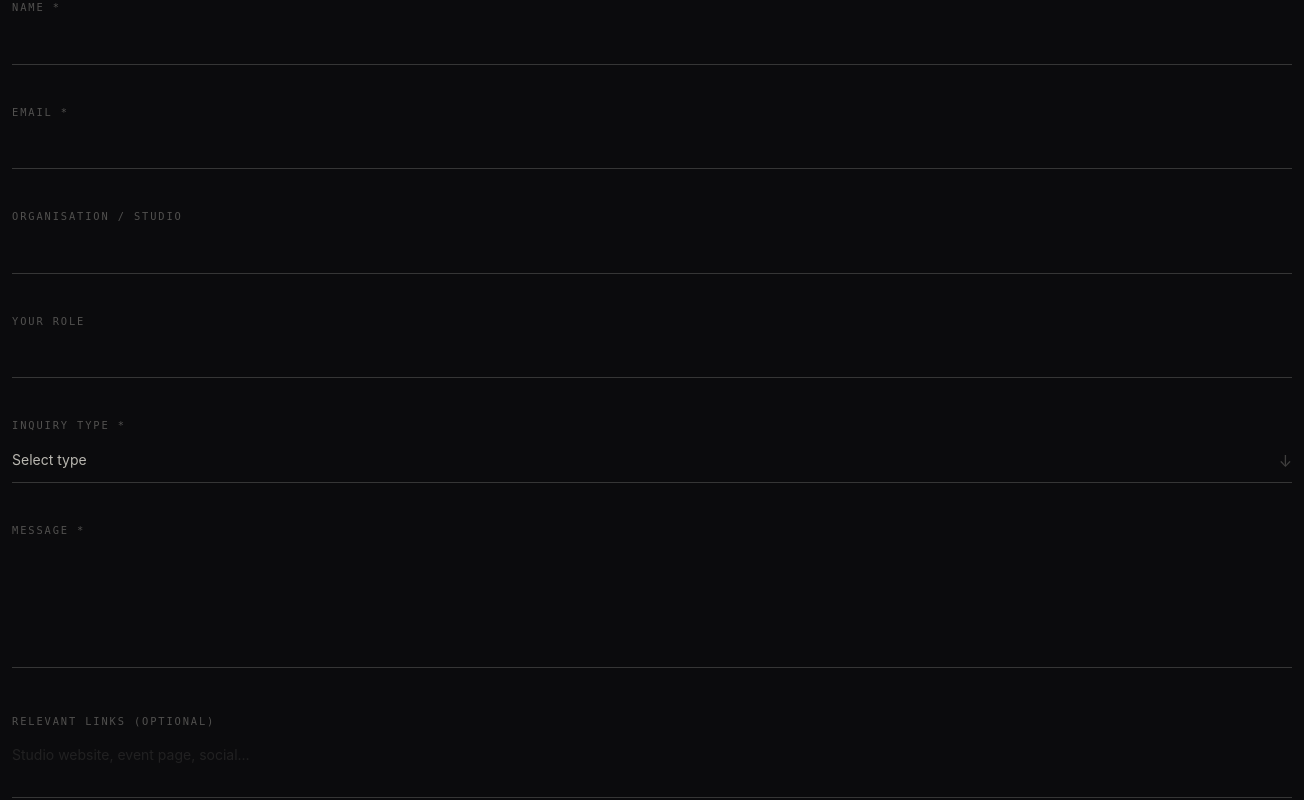
Test: ProfessionalForm › shows error message on failed submission
Type "Studio X" into the field labelled "Name *".
click(652, 42); type("Studio X")  # box [12,20,1292,65]
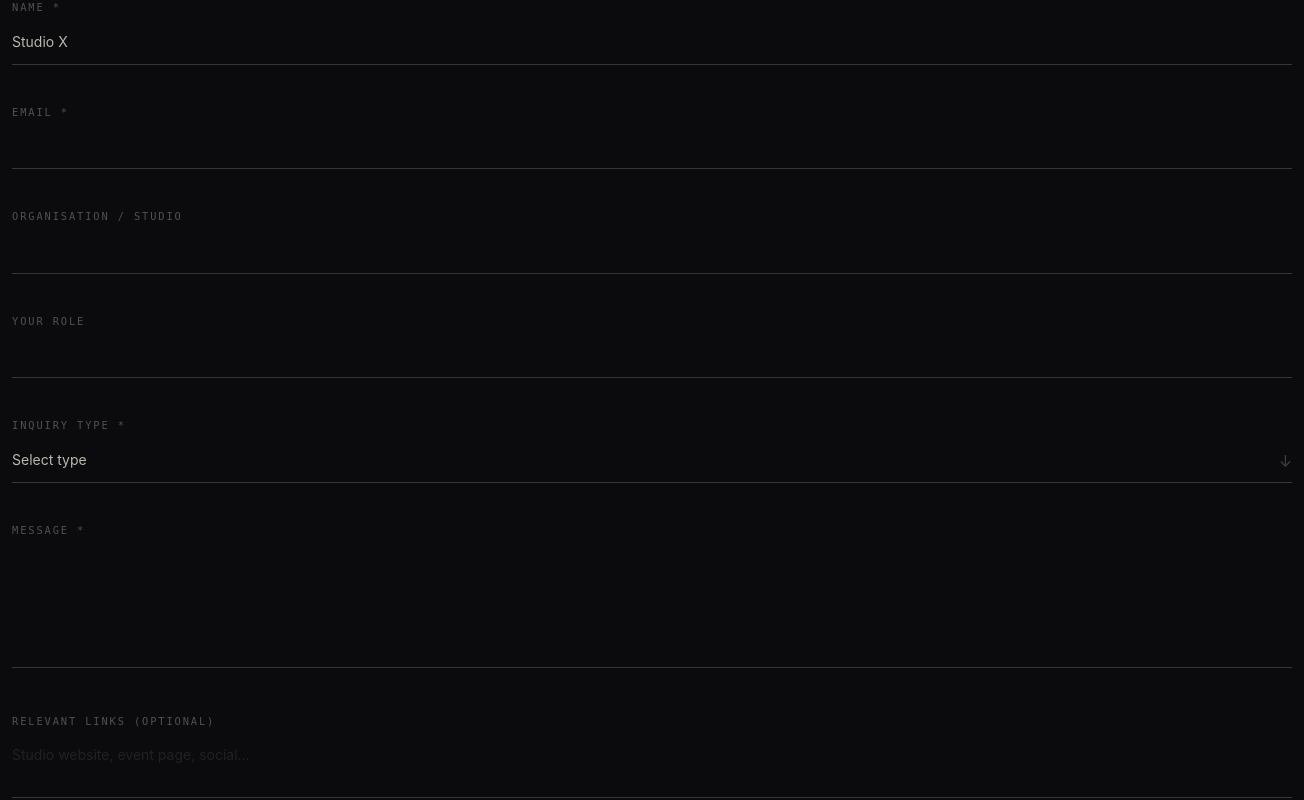
Type "studio@example.com" into the field labelled "Email *".
click(652, 147); type("studio@example.com")  # box [12,124,1292,169]
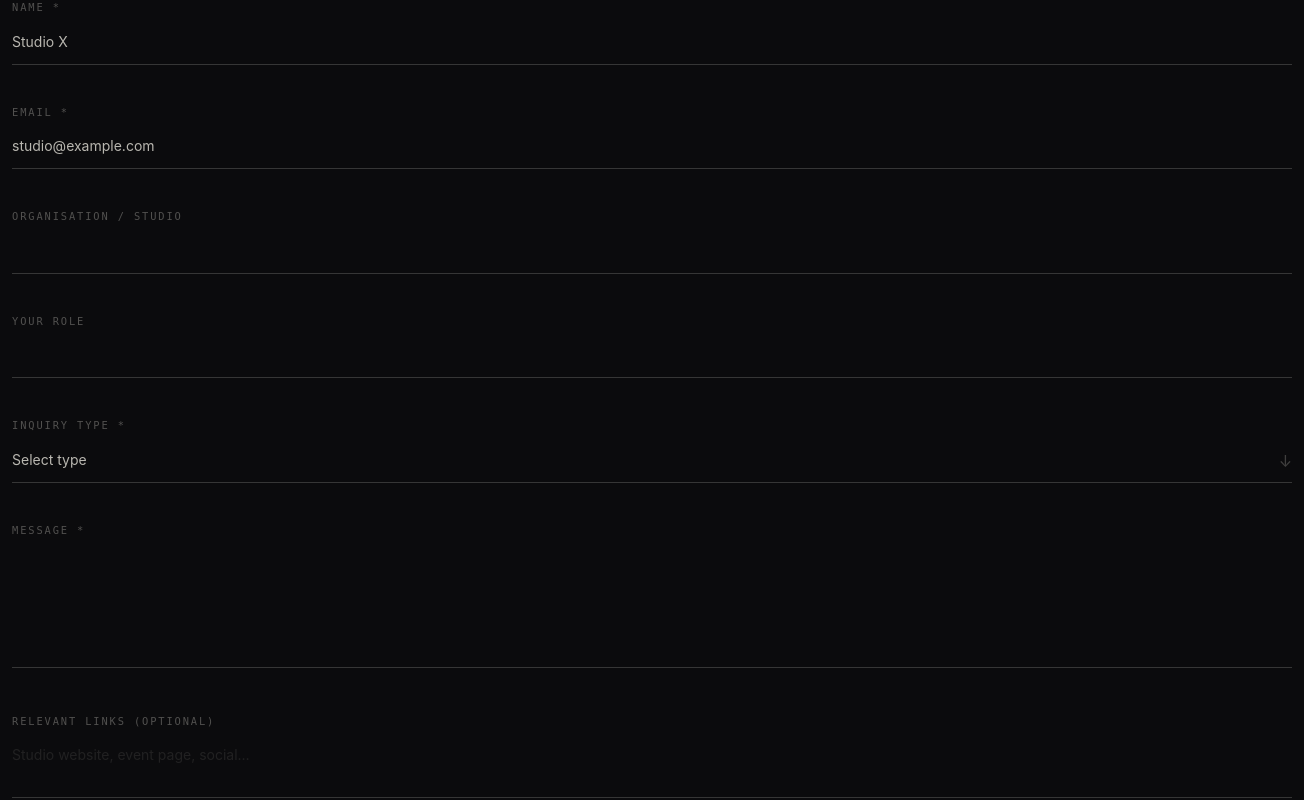
Select "Collaboration" in the dropdown labelled "Inquiry type *" at (652, 460), box [12,438,1292,483]
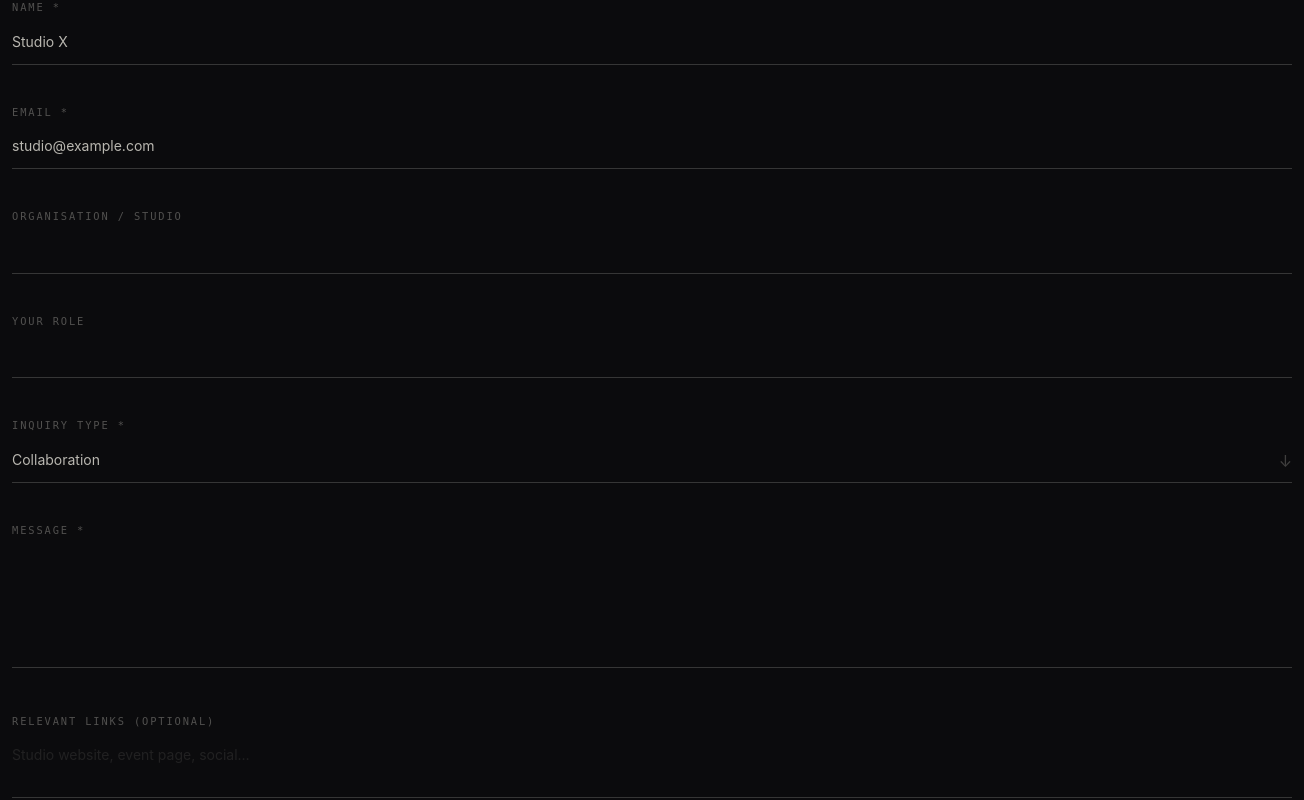
Type "We would love to collaborate." into the text box labelled "Message *".
click(652, 605); type("We would love to collaborate.")  # box [12,543,1292,668]
(page scrolled)
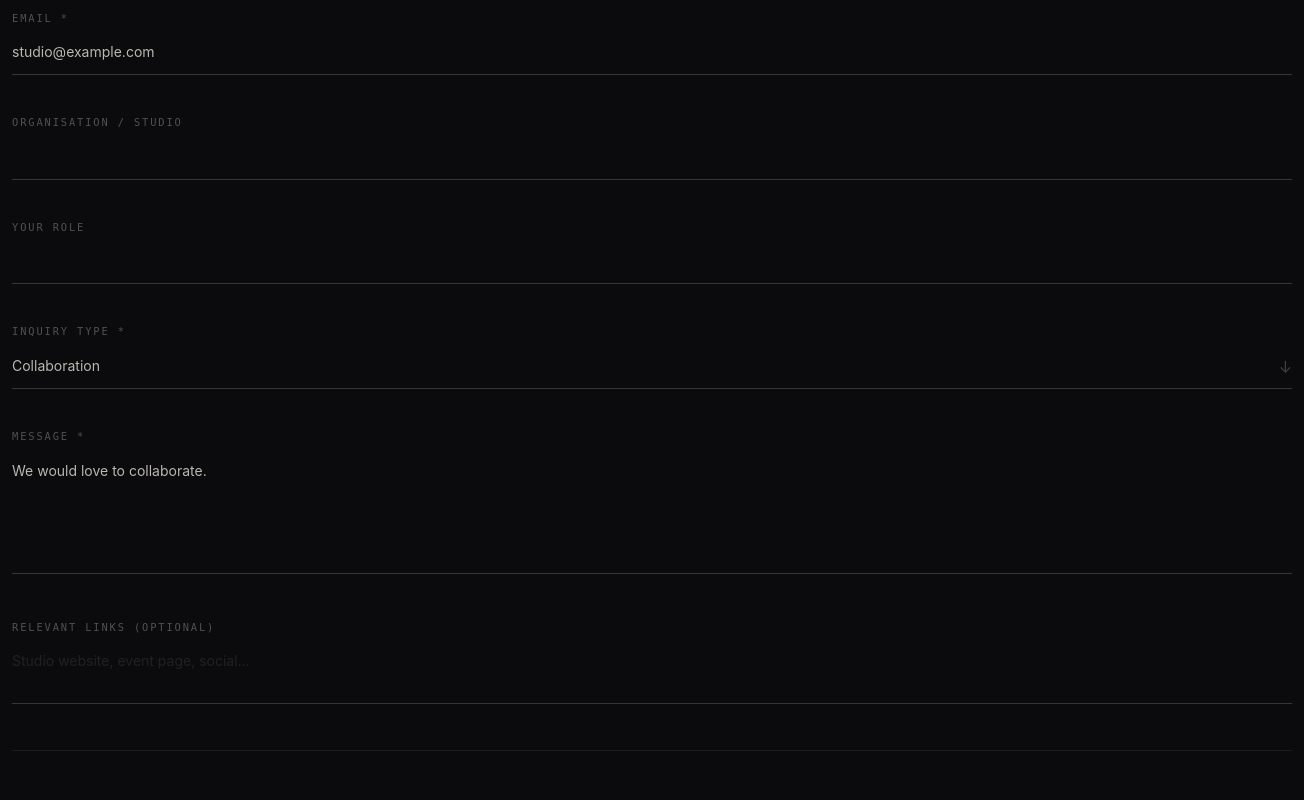
Submit the form named "Professional inquiry"
(page scrolled)
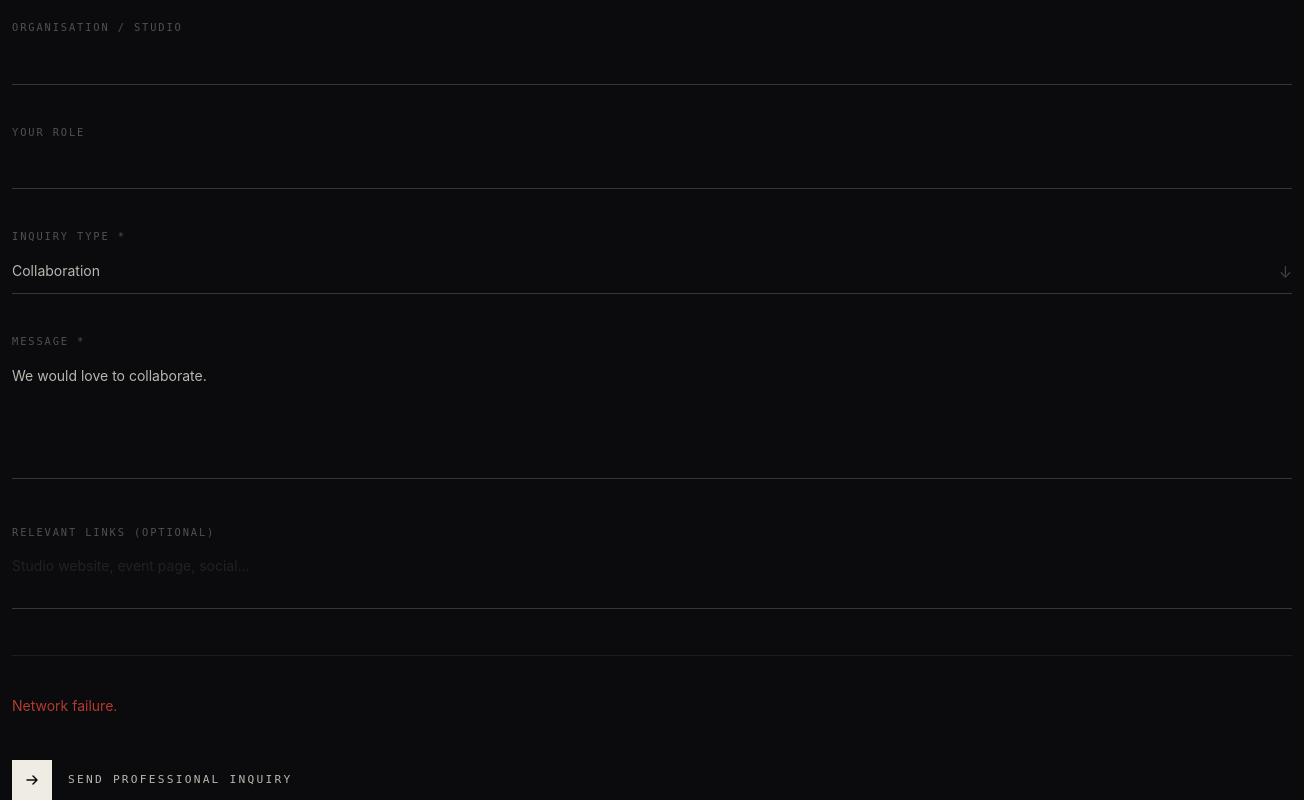
Expected: the text "Network failure." is shown, [12,697,117,714]
